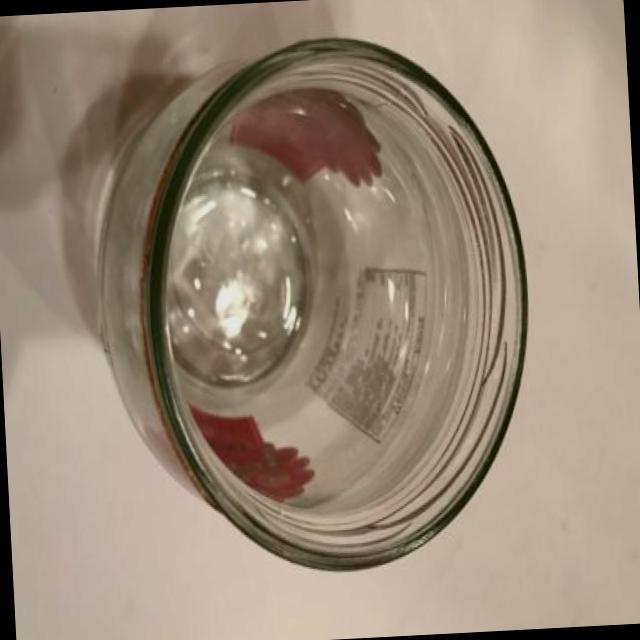chai_thuy_tinh: (97, 39, 528, 571)
